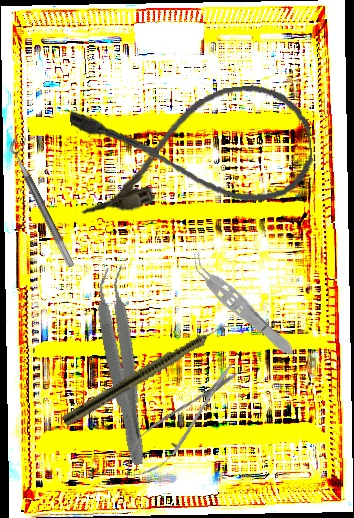Cannula: (68, 79, 317, 220)
Fixation Ring: (5, 133, 86, 269)
Handpiece: (61, 315, 236, 430)
Micro Scissor: (113, 354, 249, 490)
Tissue Forceps: (90, 265, 159, 467), (181, 248, 301, 363)
